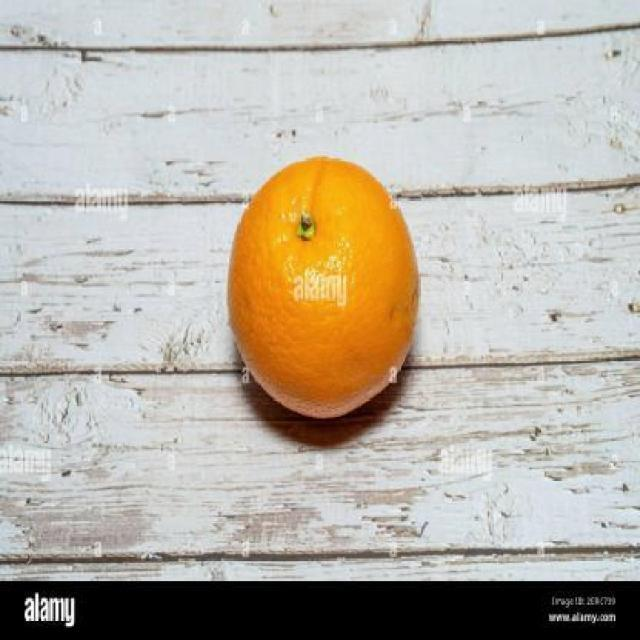Jeruk Sudah Matang: (226, 157, 420, 414)
